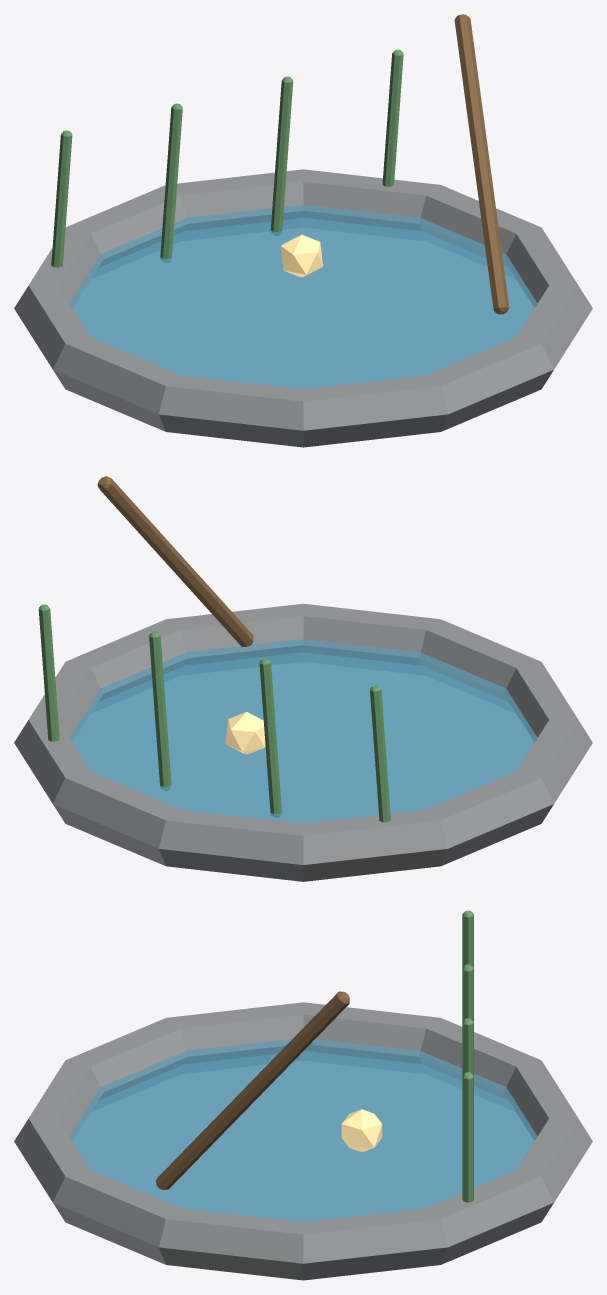
The model's file is harthmere_river_fishing_pool.glb.
The picture shows the model from 3 angles, top to bottom: view 1: azimuth 30°, elevation 25°; view 2: azimuth 150°, elevation 25°; view 3: azimuth 270°, elevation 25°; orthographic projection.
Bounding box in the file's own units: 2.18 × 1.08 × 2.18.
